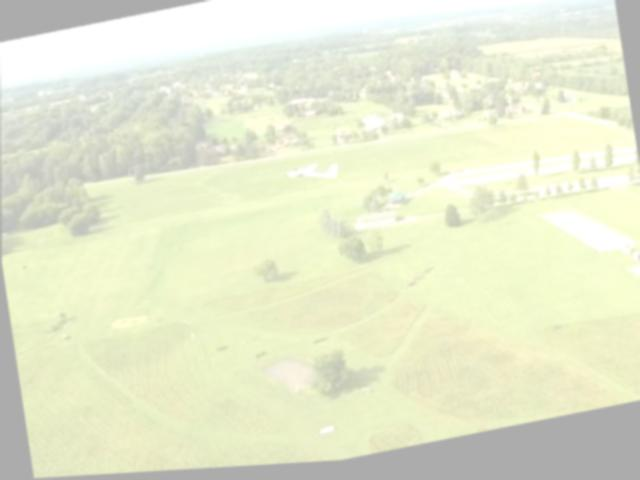uav: (279, 153, 347, 204)
